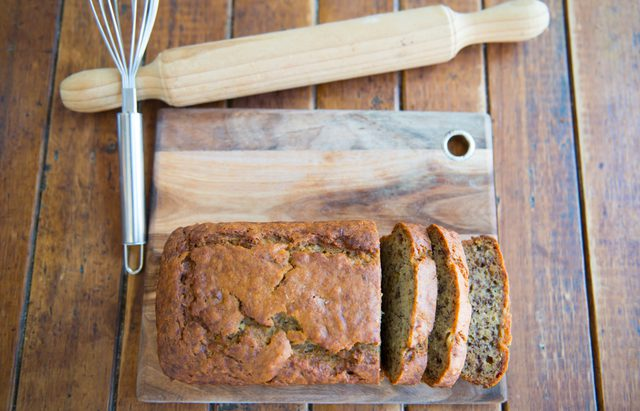slice of bread: (360, 209, 521, 411)
